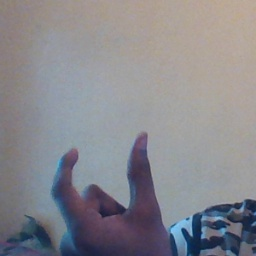U: (46, 130, 167, 256)
